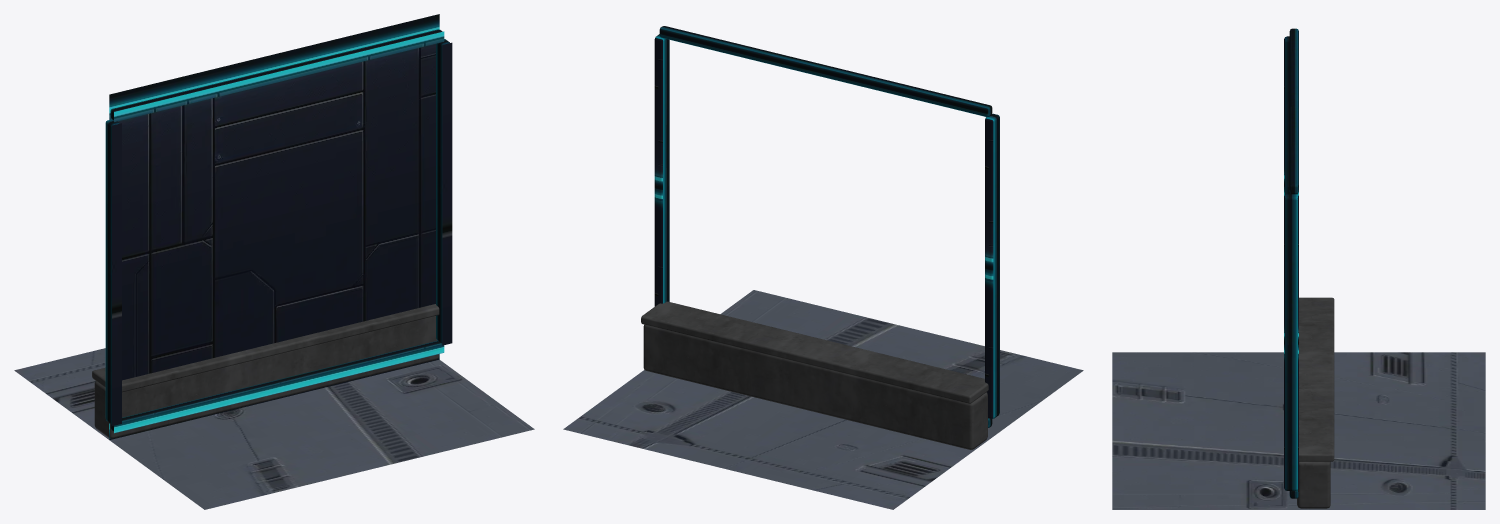
The model's file is town_sfGlass.glb.
The picture shows the model from 3 angles, left to right: view 1: azimuth 30°, elevation 25°; view 2: azimuth 150°, elevation 25°; view 3: azimuth 270°, elevation 25°; orthographic projection. The views are drawn at different scales.
Visible parts, largest first — view 1: prop (×3); view 2: prop (×3); view 3: prop (×3).
Part boxes in pixels (x1,y1,x2,y2): prop (×3): (14,14,534,509); prop (×3): (563,26,1083,509); prop (×3): (1112,28,1485,509).
Bounding box in the file's own units: 1.03 × 1 × 1.
3 materials, 3 textured.
